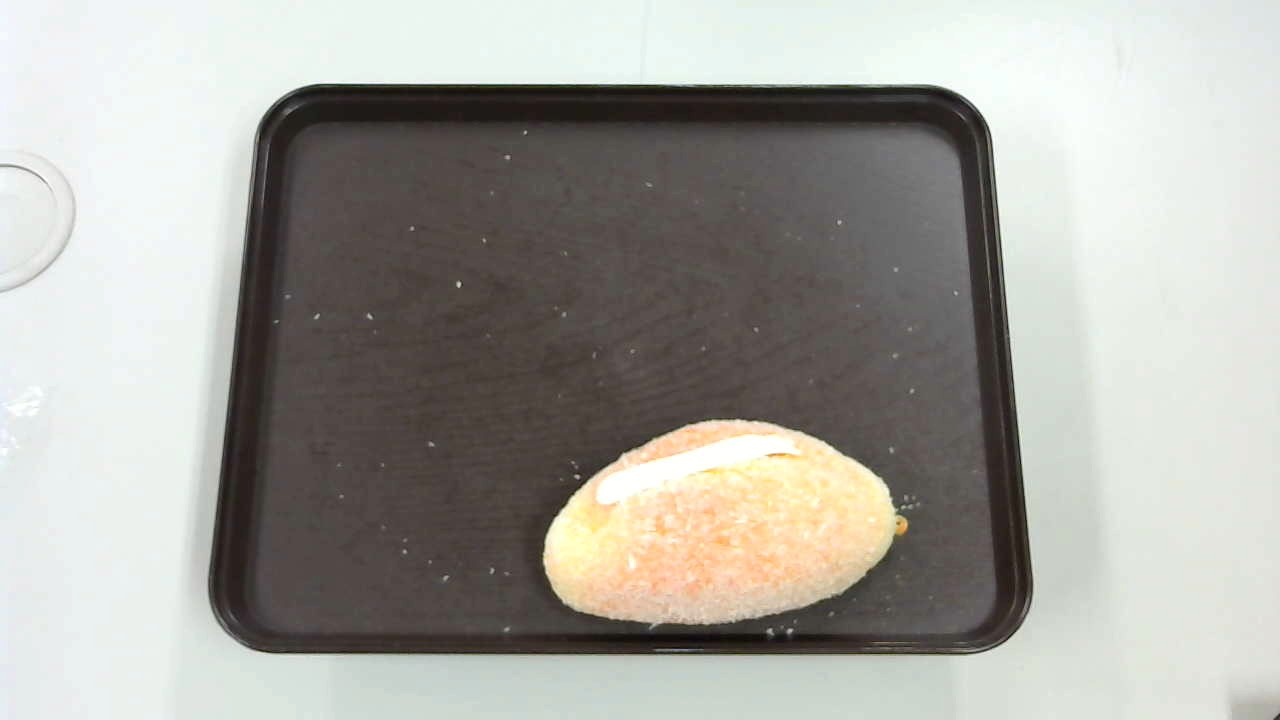coconut: (543, 418, 908, 627)
